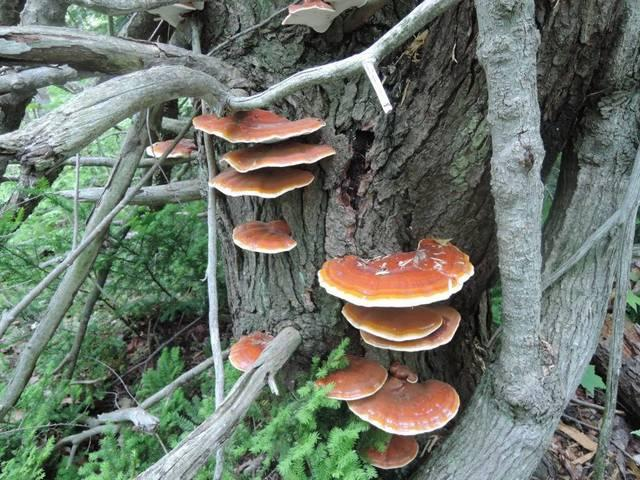poisonous_mushroom: (146, 98, 497, 480), (231, 218, 297, 254)
